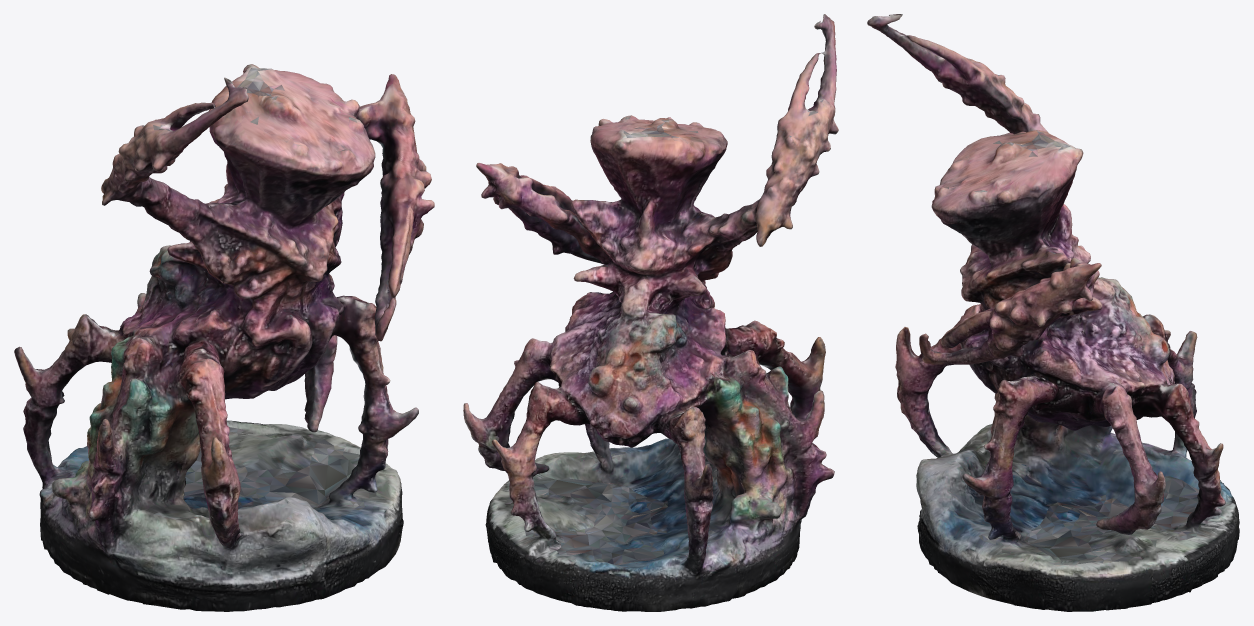
Rendered from Kelp.glb.
3 renders of one model, left to right at view 1: azimuth 30°, elevation 25°; view 2: azimuth 150°, elevation 25°; view 3: azimuth 270°, elevation 25°, orthographic. The views are drawn at different scales.
Visible parts, largest first — view 1: deepwraith; view 2: deepwraith; view 3: deepwraith.
Part boxes in pixels (x1,y1,x2,y2): deepwraith: (14, 64, 434, 611); deepwraith: (463, 14, 838, 611); deepwraith: (867, 14, 1239, 611).
Size of the model in its own units: 5.68 by 8.32 by 5.76.
Materials: 1 (1 with a texture image).
